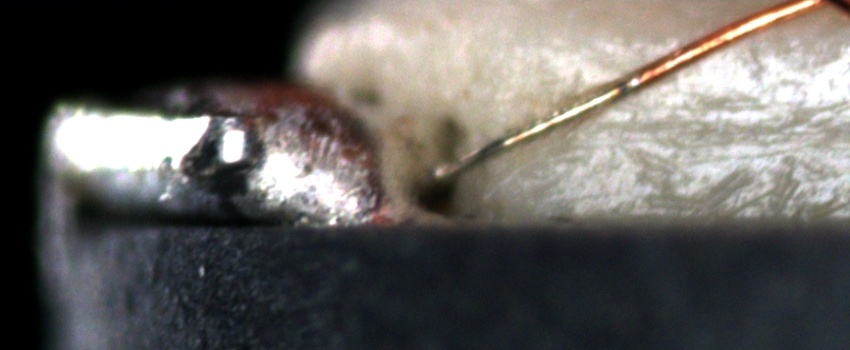CL: (768, 0, 850, 18)
DL: (595, 96, 850, 160), (507, 35, 850, 77)
TS: (432, 80, 634, 182)
TTCW: (428, 51, 663, 191)
